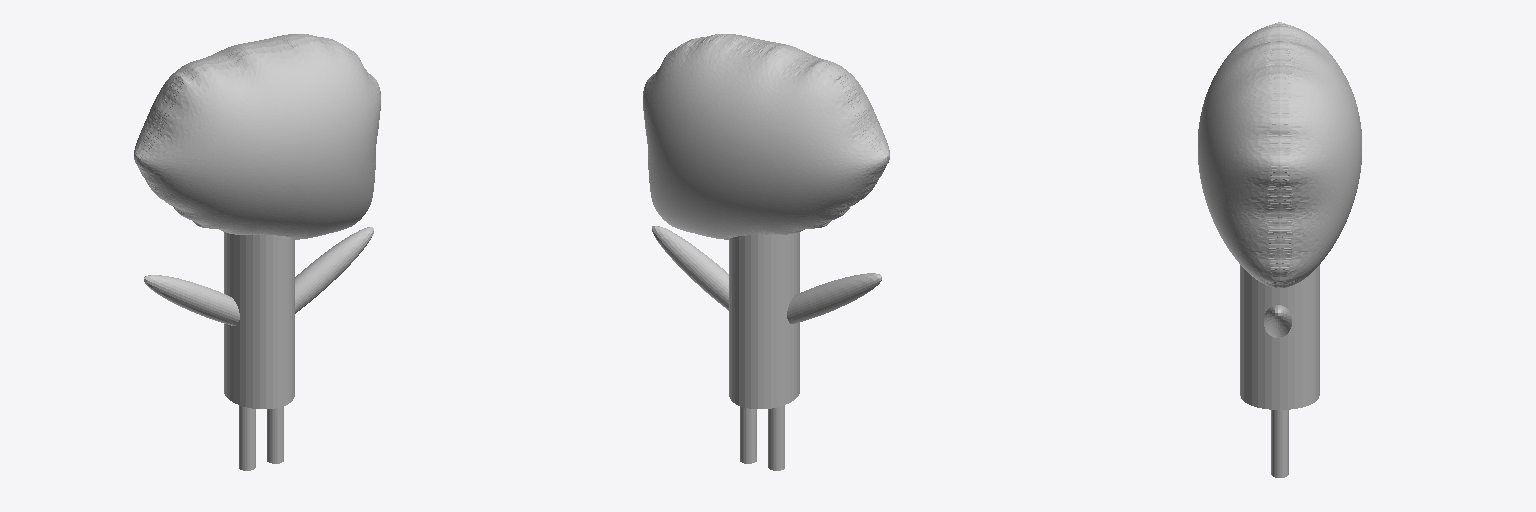
The model's file is trollface.obj.
3 renders of one model, left to right at view 1: azimuth 30°, elevation 25°; view 2: azimuth 150°, elevation 25°; view 3: azimuth 270°, elevation 25°, orthographic.
Visible parts, largest first — view 1: mm_frame, Cylinder, Sphere, Sphere.001, Cylinder.002, Cylinder.001; view 2: mm_frame, Cylinder, Sphere.001, Sphere, Cylinder.002, Cylinder.001; view 3: mm_frame, Cylinder, Cylinder.001, Sphere.
Boxes of the visible parts, x1,y1,x2,y2 form: mm_frame: [134, 34, 380, 239]; Cylinder: [224, 232, 294, 408]; Sphere: [295, 227, 373, 313]; Sphere.001: [144, 275, 239, 325]; Cylinder.002: [239, 405, 255, 470]; Cylinder.001: [267, 406, 283, 463]; mm_frame: [643, 34, 889, 239]; Cylinder: [729, 232, 799, 408]; Sphere.001: [787, 273, 881, 323]; Sphere: [652, 226, 728, 310]; Cylinder.002: [768, 405, 784, 470]; Cylinder.001: [740, 406, 756, 463]; mm_frame: [1198, 22, 1361, 287]; Cylinder: [1240, 265, 1319, 409]; Cylinder.001: [1271, 410, 1288, 477]; Sphere: [1264, 305, 1291, 337].
Size of the model in its own units: 9.6 by 16.07 by 5.74.